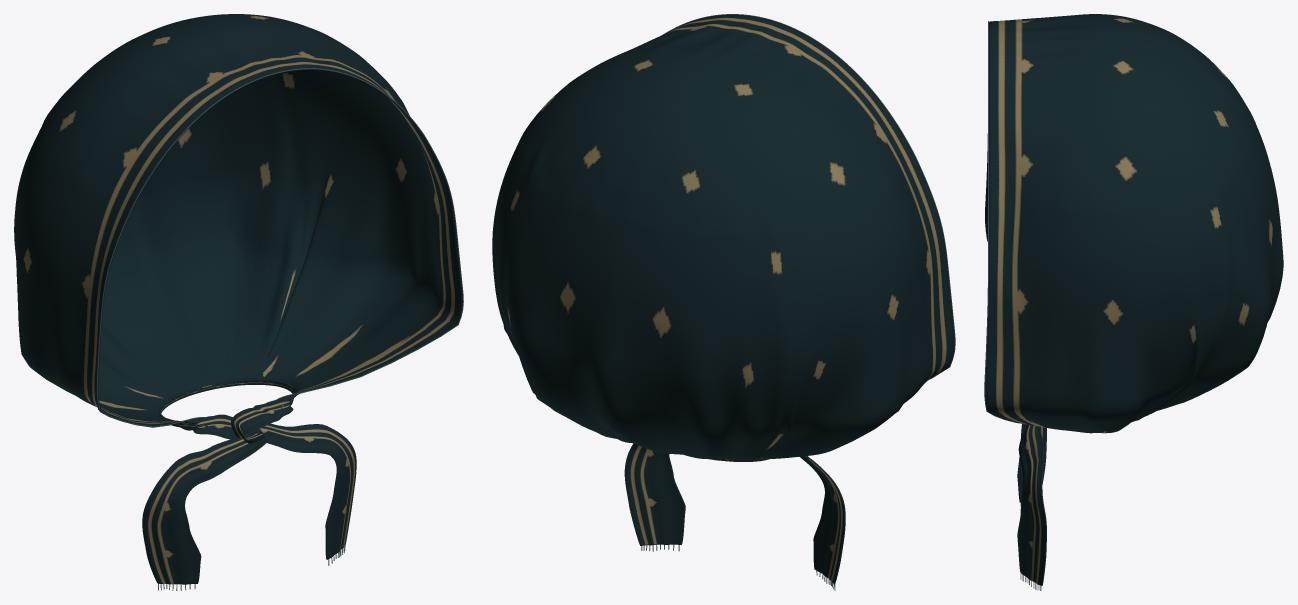
The model's file is Masculine-tank-pashmina244-headgear.glb.
The picture shows the model from 3 angles, left to right: view 1: azimuth 30°, elevation 25°; view 2: azimuth 150°, elevation 25°; view 3: azimuth 270°, elevation 25°; orthographic projection. The views are drawn at different scales.
Parts seen in each view (by area): view 1: 226 headgear / Headwear / continuous woven pashmina239, 226 headgear / Headwear / face edge239; view 2: 226 headgear / Headwear / continuous woven pashmina239, 226 headgear / Headwear / face edge239; view 3: 226 headgear / Headwear / continuous woven pashmina239, 226 headgear / Headwear / face edge239.
Part boxes in pixels (x1,y1,x2,y2): 226 headgear / Headwear / continuous woven pashmina239: [14, 14, 462, 584]; 226 headgear / Headwear / face edge239: [96, 68, 463, 427]; 226 headgear / Headwear / continuous woven pashmina239: [492, 14, 954, 584]; 226 headgear / Headwear / face edge239: [663, 14, 955, 380]; 226 headgear / Headwear / continuous woven pashmina239: [985, 14, 1283, 585]; 226 headgear / Headwear / face edge239: [984, 21, 1021, 423].
Bounding box in the file's own units: 1.03 × 1.35 × 0.7127.
3 materials, 1 textured.
